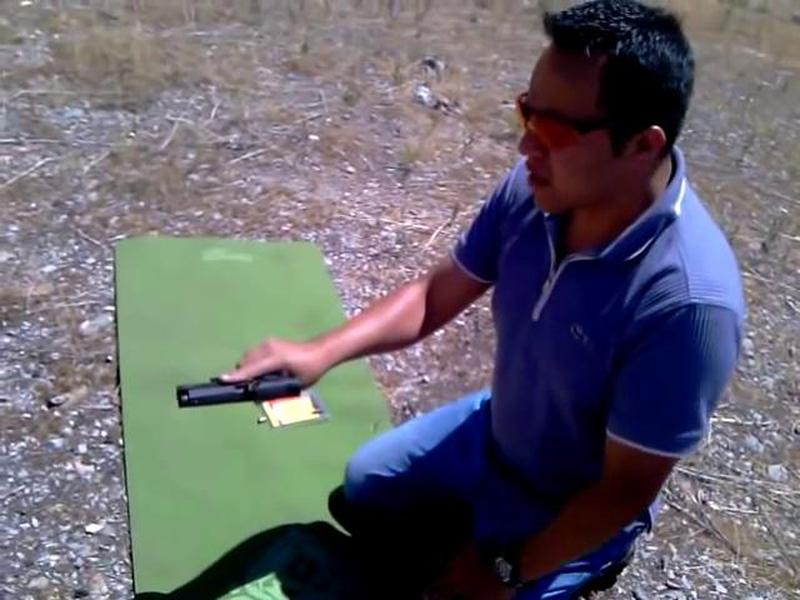Pistola: (146, 354, 322, 434)
